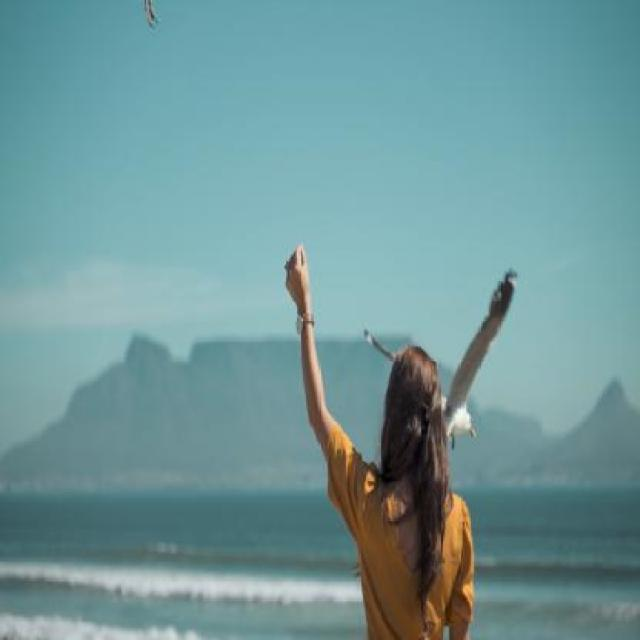bird: (363, 261, 522, 425)
